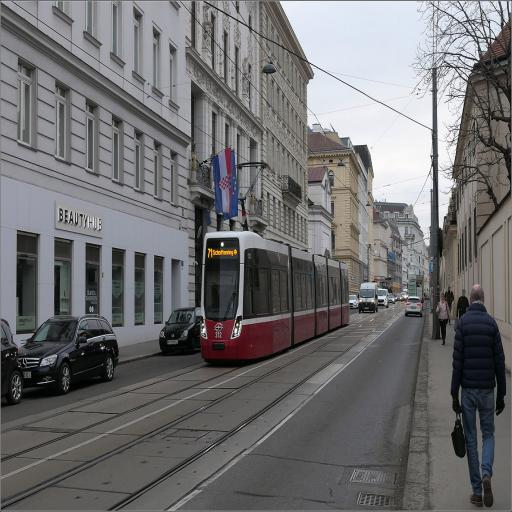Flexity: (199, 234, 350, 365)
